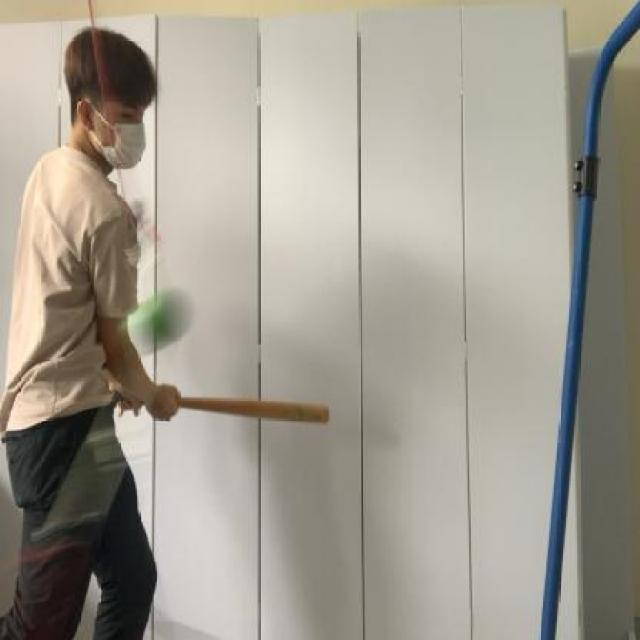baseball: (124, 284, 198, 362)
